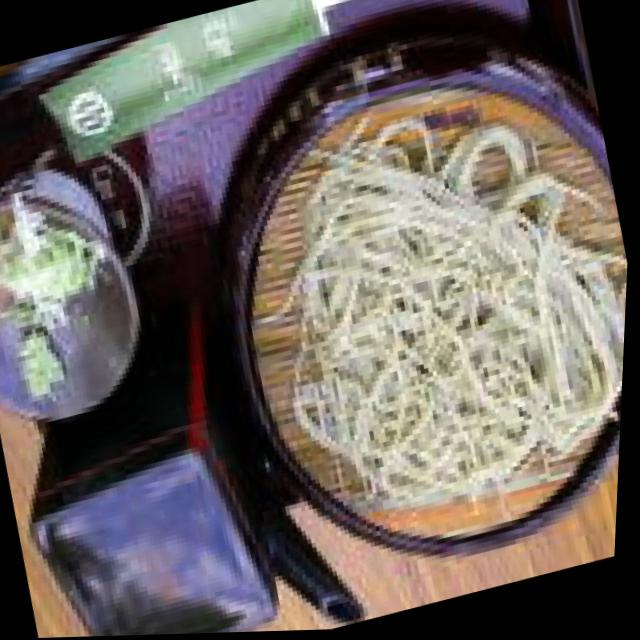面条主食: (147, 0, 640, 625)
